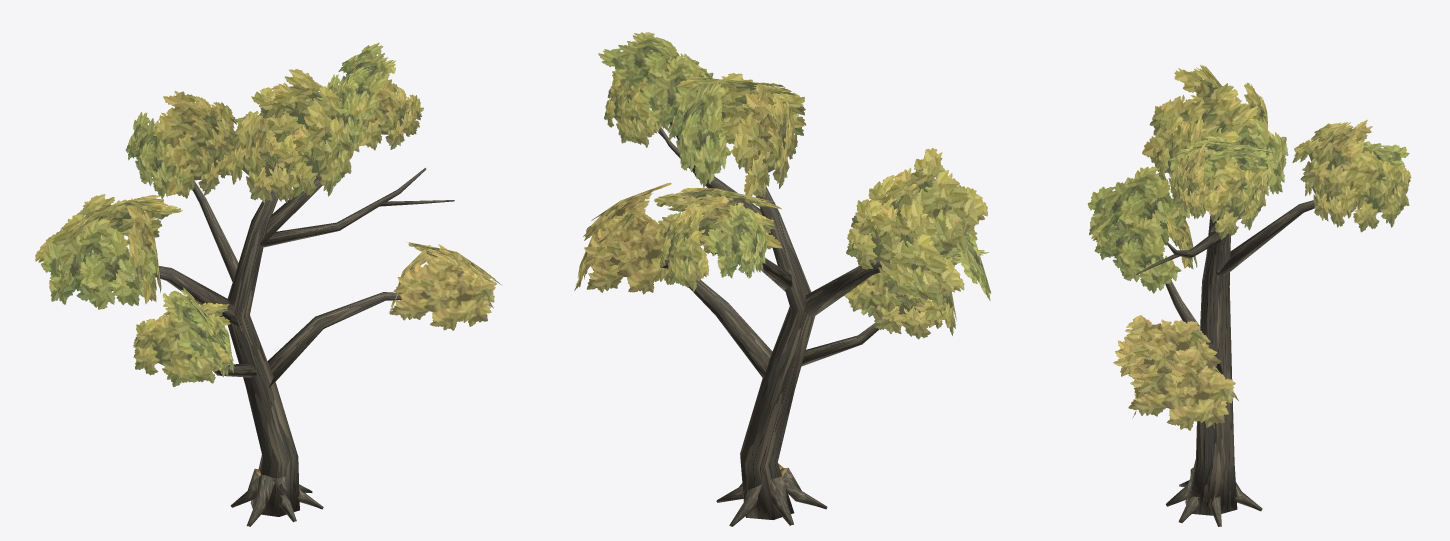
File: nbt_scraggly.glb
The picture shows the model from 3 angles, left to right: view 1: azimuth 30°, elevation 25°; view 2: azimuth 150°, elevation 25°; view 3: azimuth 270°, elevation 25°; orthographic projection. The views are drawn at different scales.
Parts seen in each view (by area): view 1: Scraggly_Tree_Foliage, Scraggly_Tree_Wood; view 2: Scraggly_Tree_Foliage, Scraggly_Tree_Wood; view 3: Scraggly_Tree_Foliage, Scraggly_Tree_Wood.
Part boxes in pixels (bbox=[...]): Scraggly_Tree_Foliage: bbox=[35, 42, 502, 386]; Scraggly_Tree_Wood: bbox=[156, 168, 454, 526]; Scraggly_Tree_Foliage: bbox=[574, 32, 991, 339]; Scraggly_Tree_Wood: bbox=[657, 118, 882, 526]; Scraggly_Tree_Foliage: bbox=[1087, 65, 1411, 430]; Scraggly_Tree_Wood: bbox=[1135, 185, 1314, 526].
Size of the model in its own units: 6.29 by 5.76 by 4.32.
2 materials, 2 textured.
